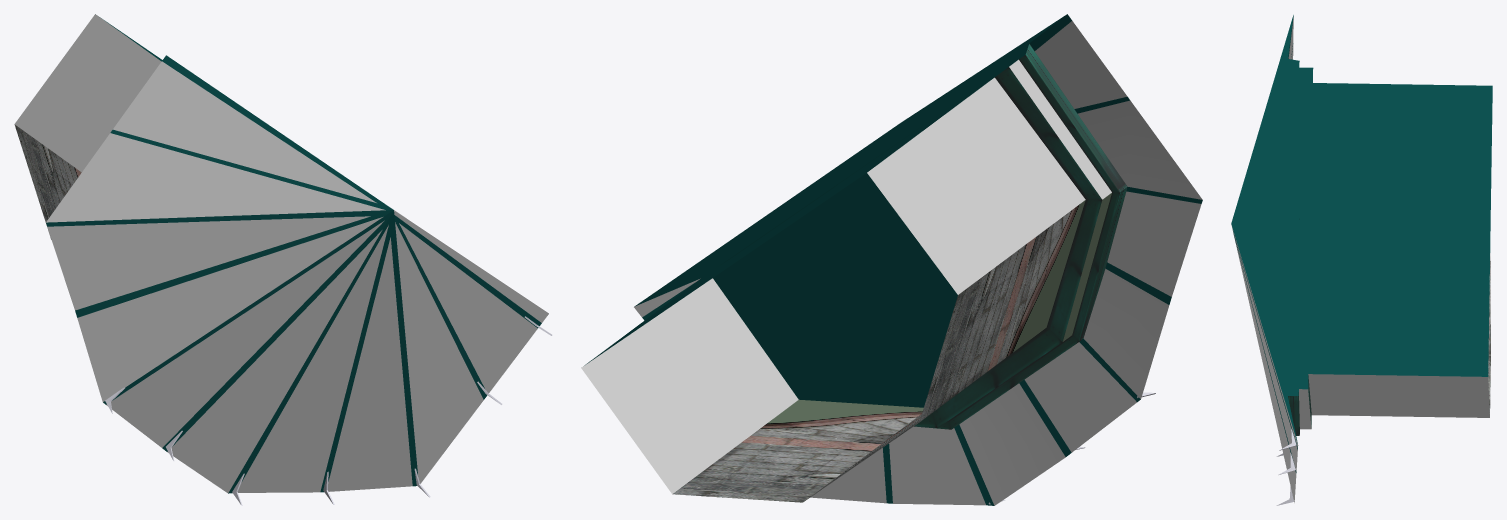
File: valli1a.obj
3 views of the same model, side by side, from view 1: azimuth 30°, elevation 25°; view 2: azimuth 150°, elevation 25°; view 3: azimuth 270°, elevation 25° (orthographic). The views are drawn at different scales.
Parts seen in each view (by area): view 1: polySurface1; view 2: polySurface1; view 3: polySurface1.
Part boxes in pixels (box(x1,y1,x2,y2)): polySurface1: box(14, 14, 552, 505); polySurface1: box(581, 14, 1202, 505); polySurface1: box(1231, 15, 1492, 505).
Bounding box in the file's own units: 6.33 × 5.92 × 3.56.
